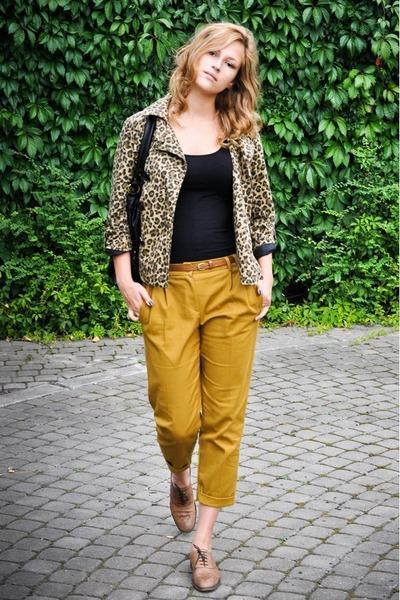bag: (124, 103, 166, 220)
jacket: (98, 93, 291, 296)
pants: (140, 252, 274, 509)
shirt: (169, 146, 244, 263)
shoe: (170, 474, 219, 552)
